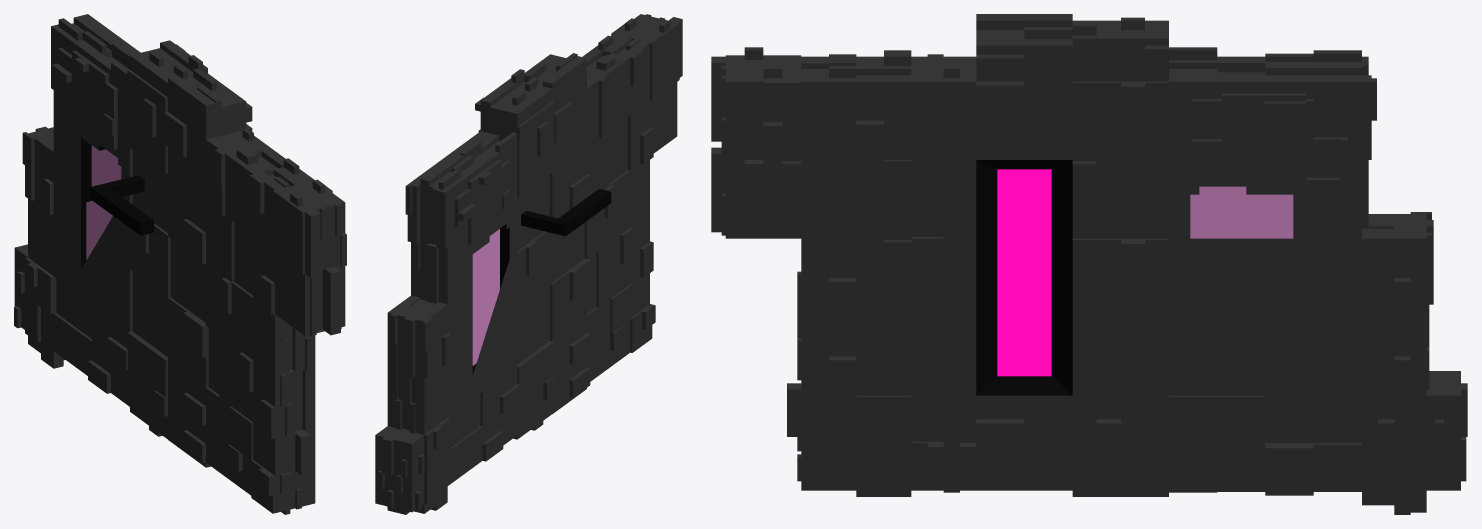
The model's file is shield.fbx.
The picture shows the model from 3 angles, left to right: view 1: azimuth 30°, elevation 25°; view 2: azimuth 150°, elevation 25°; view 3: azimuth 270°, elevation 25°; orthographic projection. The views are drawn at different scales.
Parts seen in each view (by area): view 1: Cube.001; view 2: Cube.001; view 3: Cube.001.
Boxes of the visible parts, x1,y1,x2,y2 form: Cube.001: (14, 14, 346, 514); Cube.001: (375, 14, 682, 514); Cube.001: (711, 14, 1467, 514).
Bounding box in the file's own units: 13.67 × 53.23 × 74.69.
